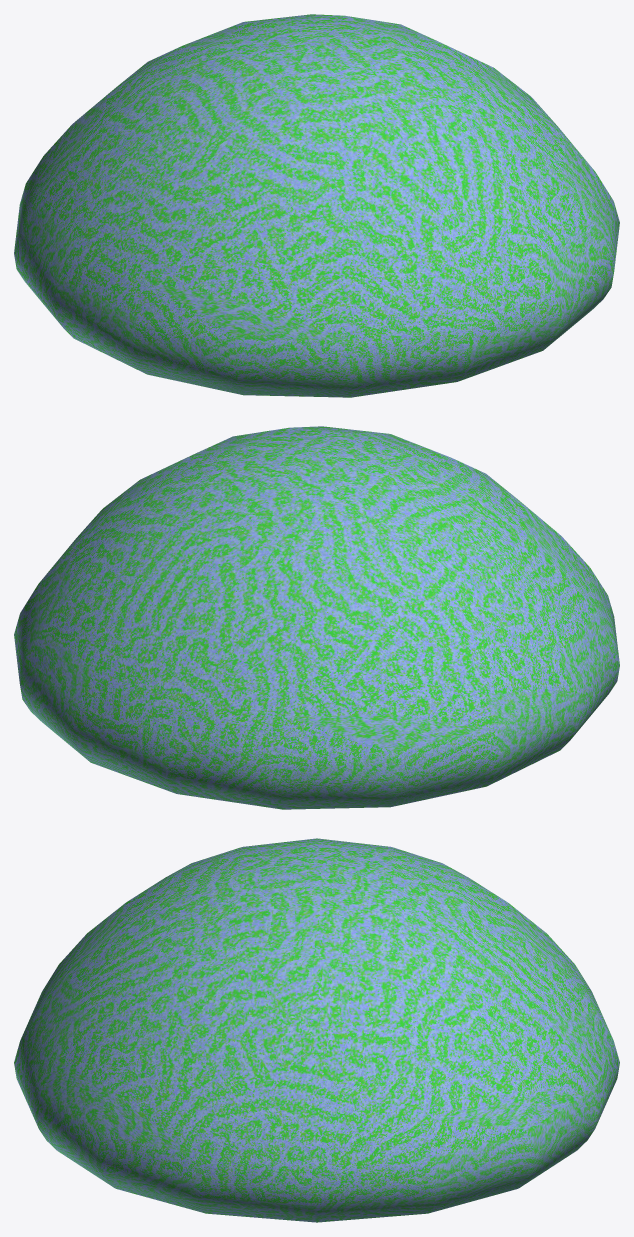
The model's file is 26-Brain.fbx.
3 views of the same model, one above another, from view 1: azimuth 30°, elevation 25°; view 2: azimuth 150°, elevation 25°; view 3: azimuth 270°, elevation 25° (orthographic).
Visible parts, largest first — view 1: 26-Brain_LOD00; view 2: 26-Brain_LOD00; view 3: 26-Brain_LOD00.
Part boxes in pixels (left/top/right/bottom): 26-Brain_LOD00: left=14, top=14, right=619, bottom=397; 26-Brain_LOD00: left=14, top=426, right=619, bottom=809; 26-Brain_LOD00: left=14, top=838, right=619, bottom=1222.
Size of what is drawn, in the model's own units: 45.65 by 19.71 by 45.65.
